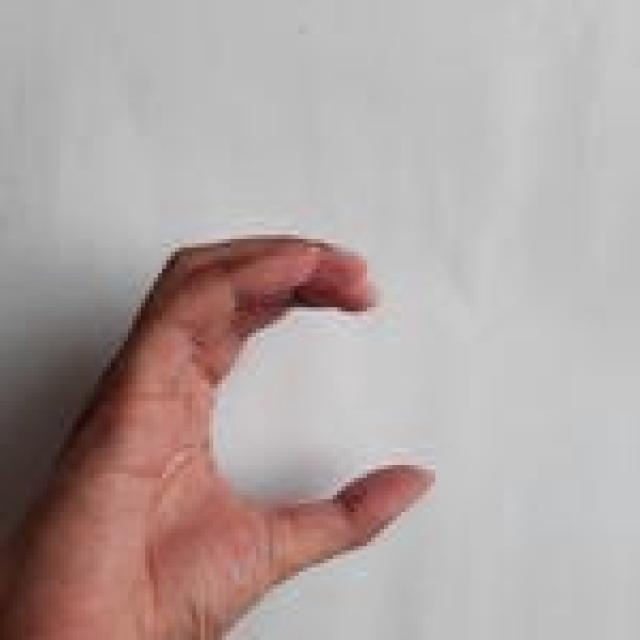C: (0, 228, 442, 640)
